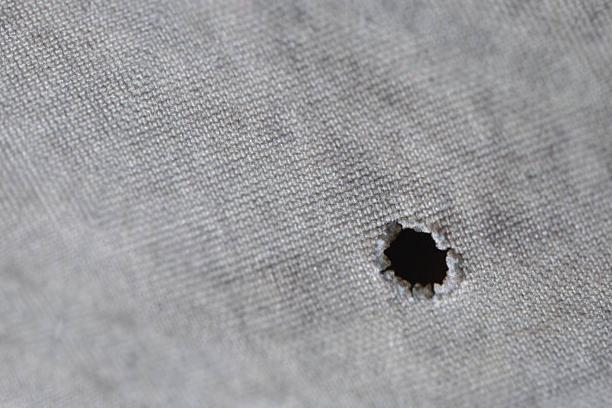hole: (367, 215, 469, 303)
